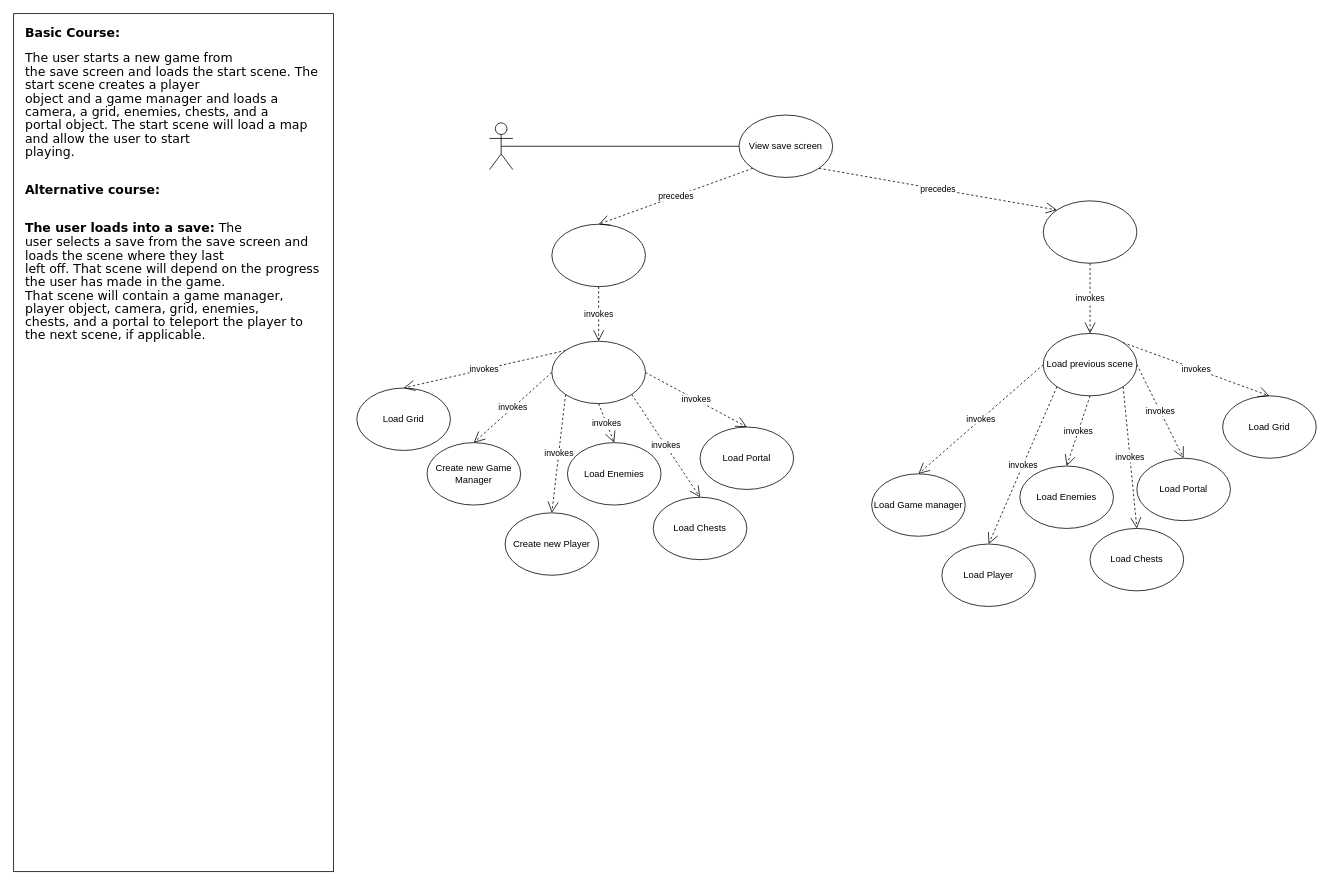
Some shapes in this 1330 by 885 pixel diagram are drawn without their labels. The box of each missing label's shape, as (x1, y1, x2, y2) in pixels:
Load a game: (1042, 200, 1137, 263)
Load Start Scene: (551, 340, 645, 404)
Player: (489, 122, 513, 170)
Start new game: (551, 223, 645, 287)
